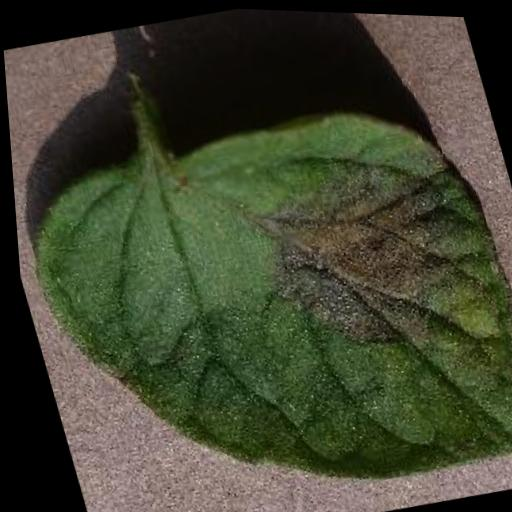Late Blight: (4, 69, 512, 512)
